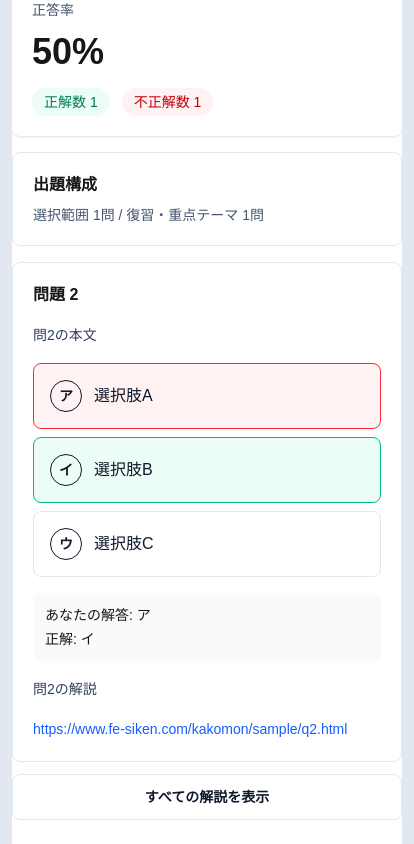
Scenario: QuizResultView › renders the mobile result summary, composition, and explanations in one column
(page scrolled)
Expected: the text "正答率" is shown, x1=32 y1=2 x2=74 y2=18
Expected: the text "50%" is shown, x1=32 y1=31 x2=104 y2=72
Click the button "すべての解説を表示": point(207, 797) x1=12 y1=774 x2=402 y2=820
(page scrolled)
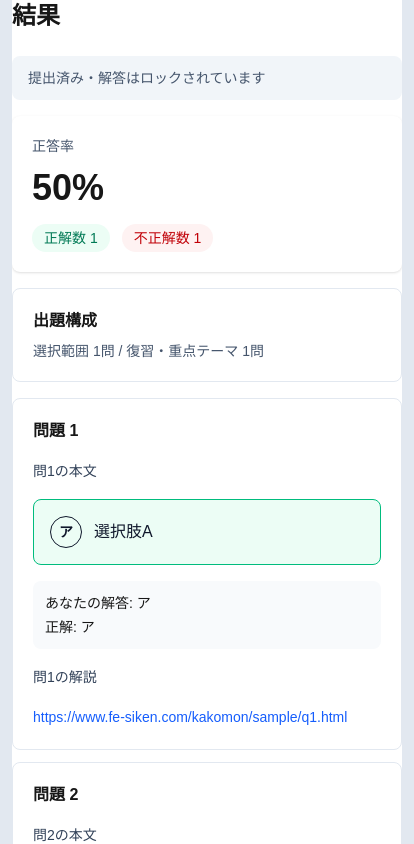
Expected: the text "提出済み・解答はロックされています" is shown, x1=12 y1=56 x2=402 y2=100
Now the element with test id "explanation-detail-1" is shown, box x1=33 y1=419 x2=381 y2=729
